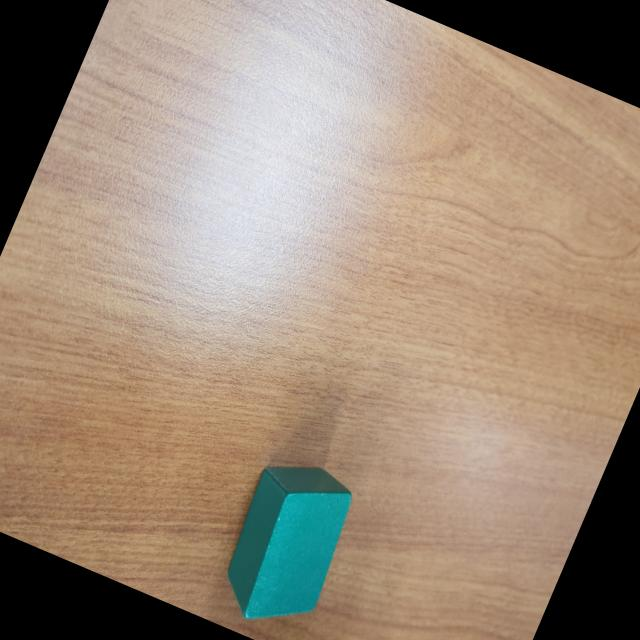green: (203, 444, 367, 640)
